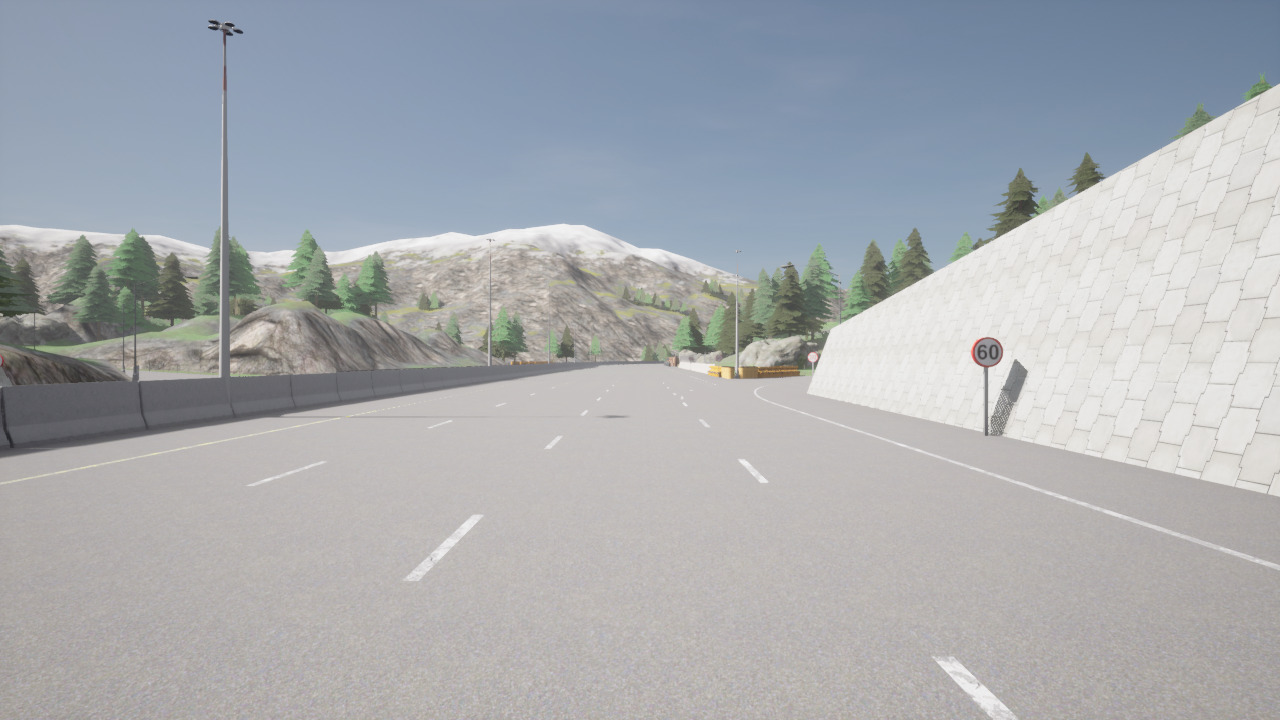sl60: (970, 336, 1005, 368)
